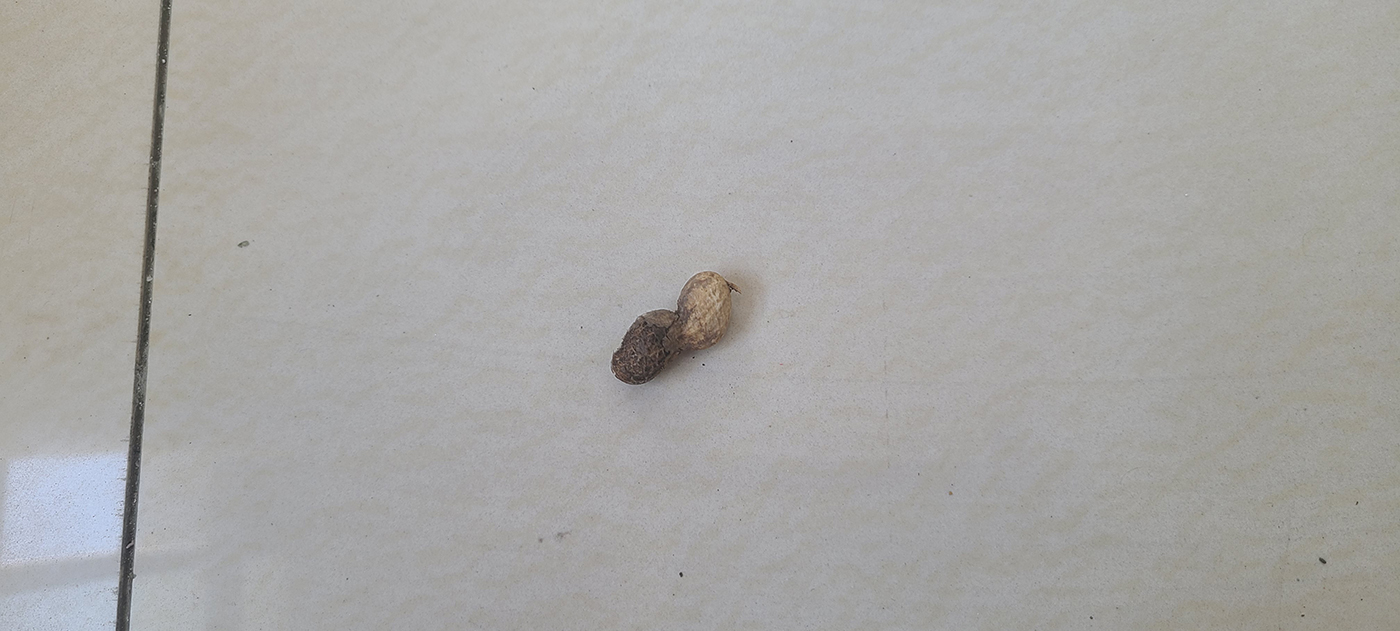l: (610, 269, 736, 383)
